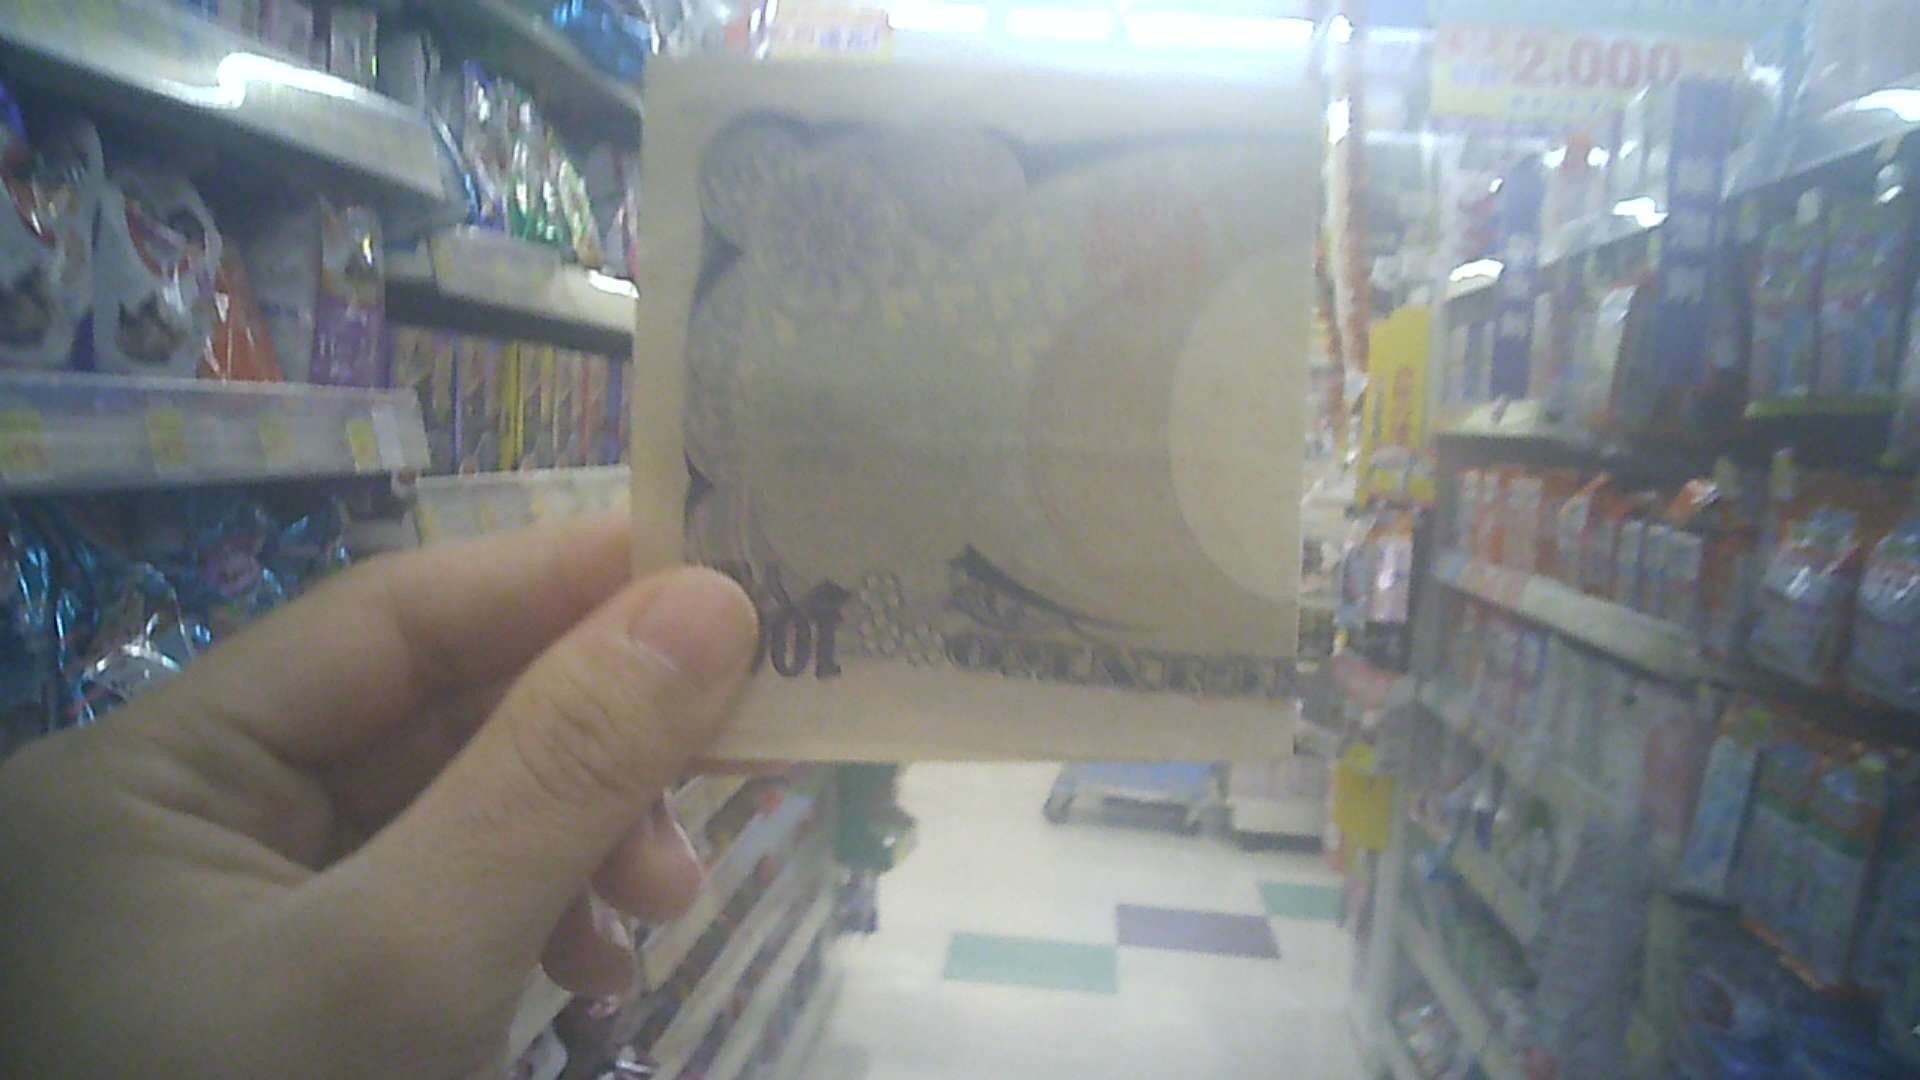1,000 Yen: (618, 55, 1320, 740)
